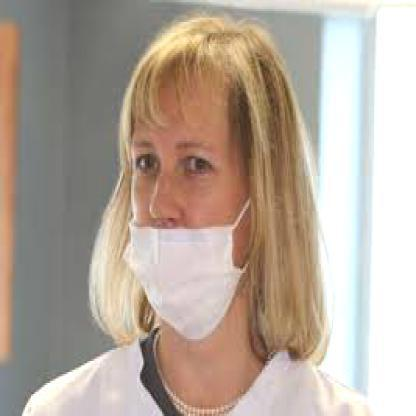mask_weared_incorrect: (121, 64, 264, 344)
